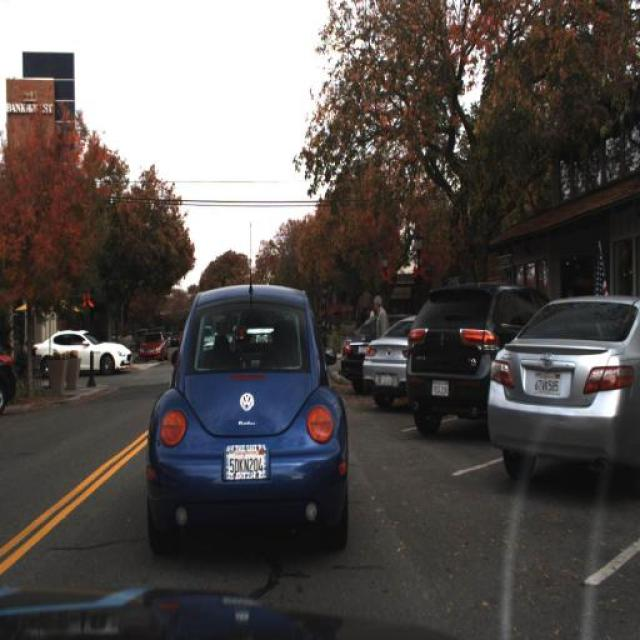car: (151, 277, 347, 542), (484, 292, 638, 486), (406, 280, 549, 436), (355, 304, 416, 406), (31, 321, 132, 379), (338, 304, 404, 390), (0, 332, 16, 408), (138, 323, 168, 361)
trafficLight: (368, 292, 389, 399)
